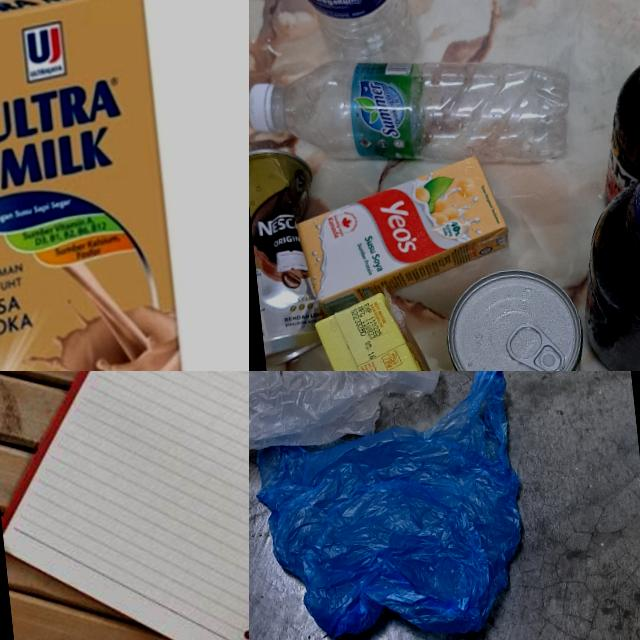aba de lata: (503, 313, 562, 371)
caixinha: (0, 0, 203, 371), (286, 152, 518, 304), (307, 284, 444, 371)
garrafa de vidro: (565, 104, 640, 371), (589, 0, 640, 231)
garrafa plástica: (274, 37, 580, 192), (284, 0, 413, 82)
lata: (249, 139, 331, 361), (435, 260, 590, 371)
papel: (0, 371, 249, 640)
sacola plástica: (249, 371, 540, 640), (249, 371, 451, 480)
tampa plástica: (249, 77, 277, 134)
